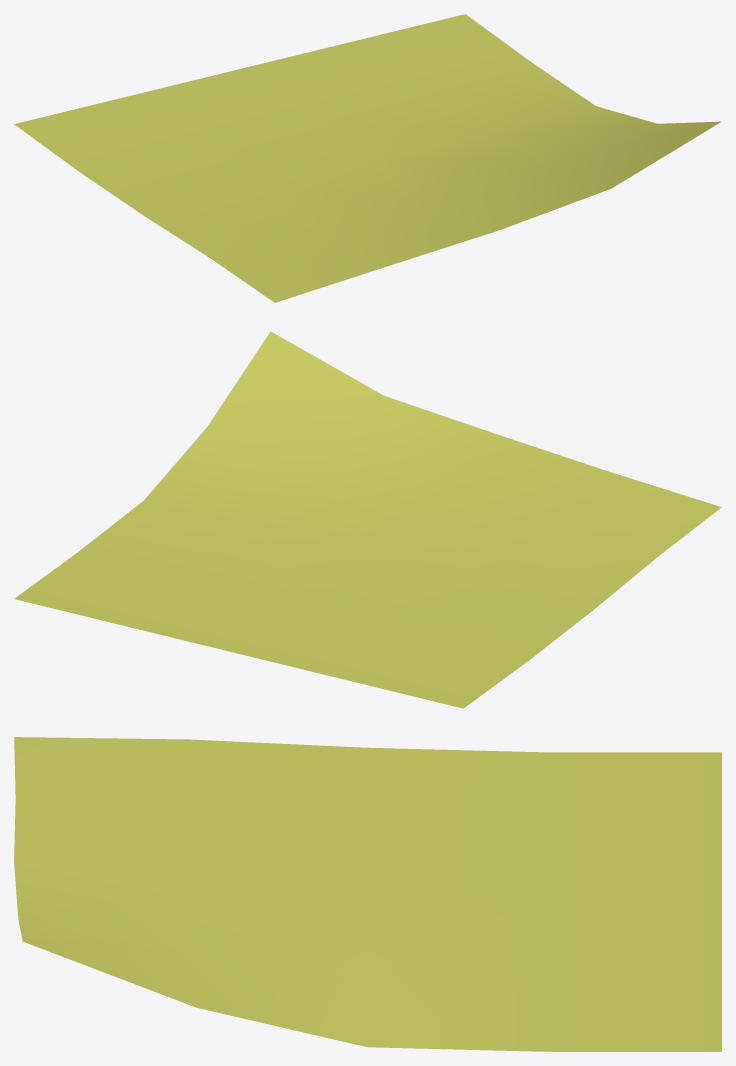
Rendered from note_sticker_01.glb.
3 renders of one model, top to bottom at view 1: azimuth 30°, elevation 25°; view 2: azimuth 150°, elevation 25°; view 3: azimuth 270°, elevation 25°, orthographic. The views are drawn at different scales.
Visible parts, largest first — view 1: Plane__0; view 2: Plane__0; view 3: Plane__0.
Boxes of the visible parts, x1=… form: Plane__0: x1=14, y1=14, x2=721, y2=302; Plane__0: x1=14, y1=331, x2=721, y2=708; Plane__0: x1=14, y1=737, x2=721, y2=1051.
Size of the model in its own units: 0.2 by 0.0342 by 0.1998.
